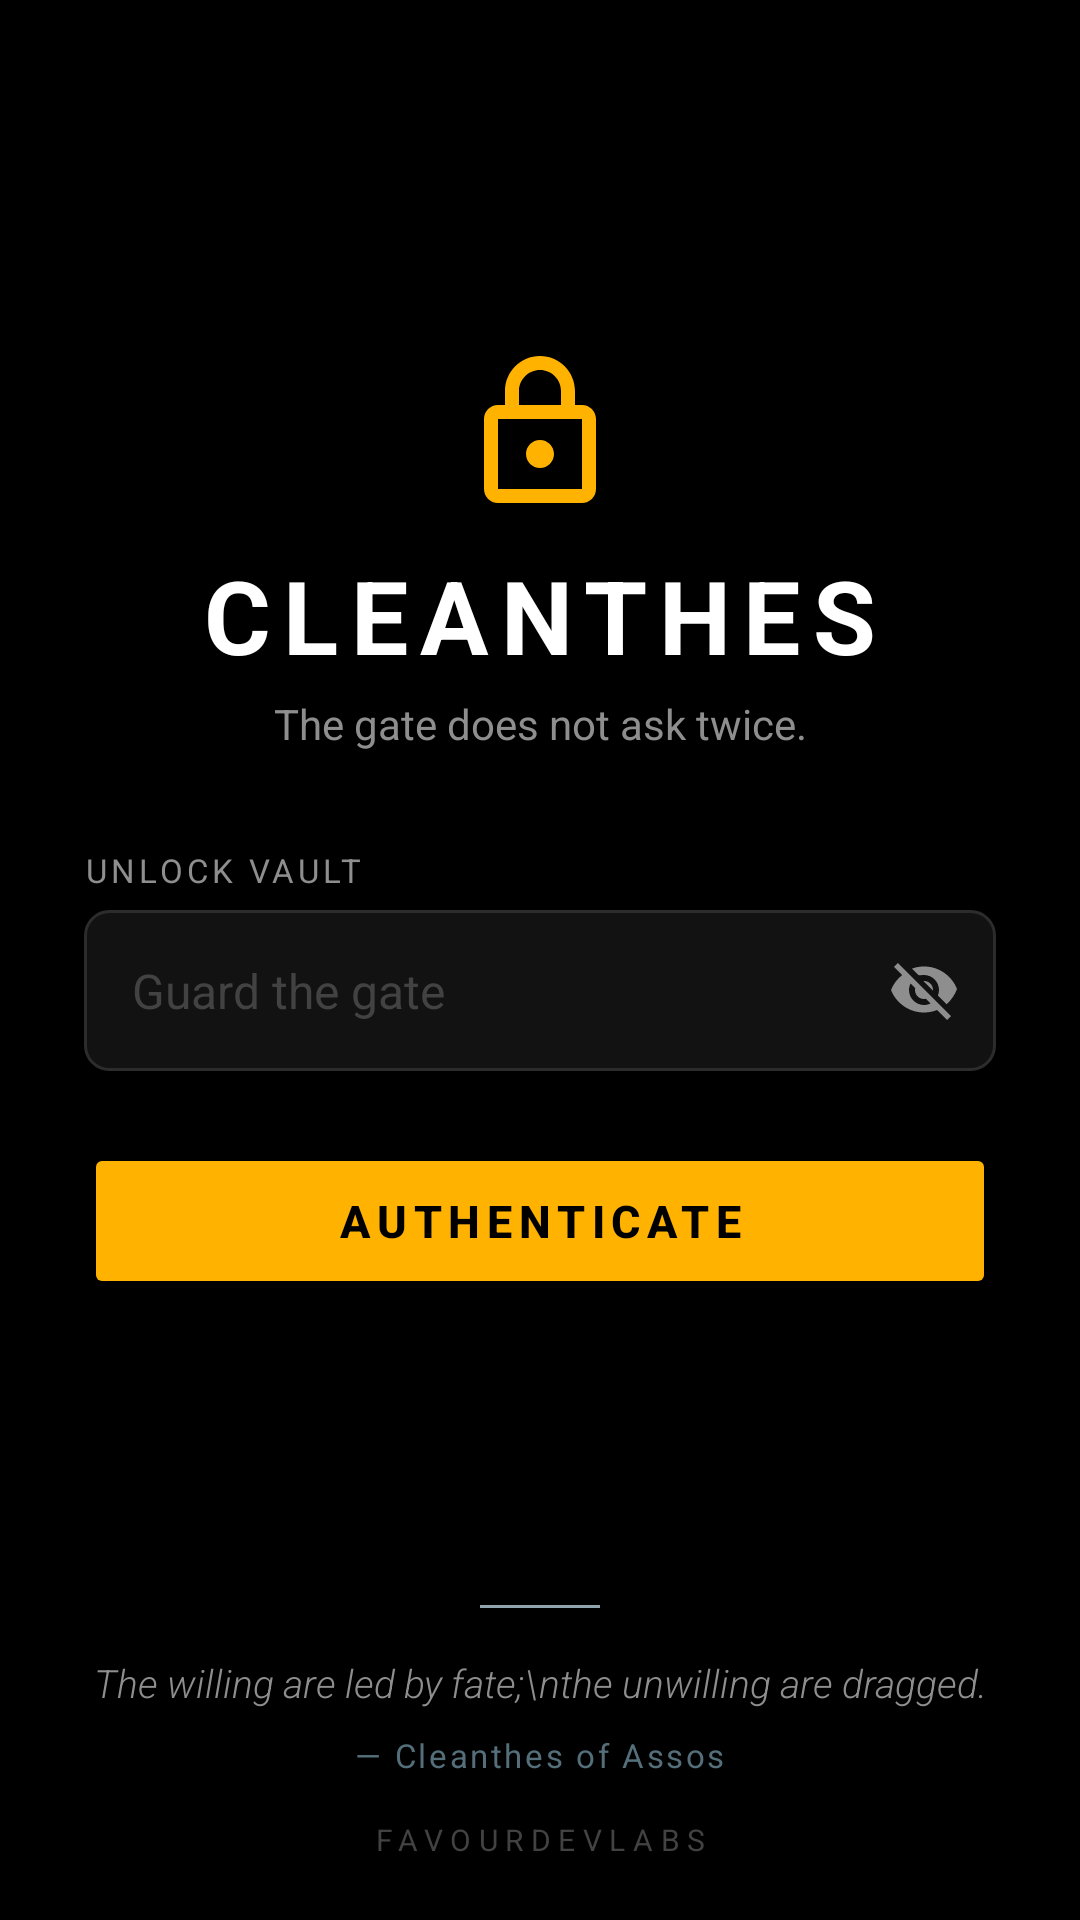

Where to tap for icons on this 1080 x 1920 app screen, as point (x, y):
Show or hide password: point (924, 991)
